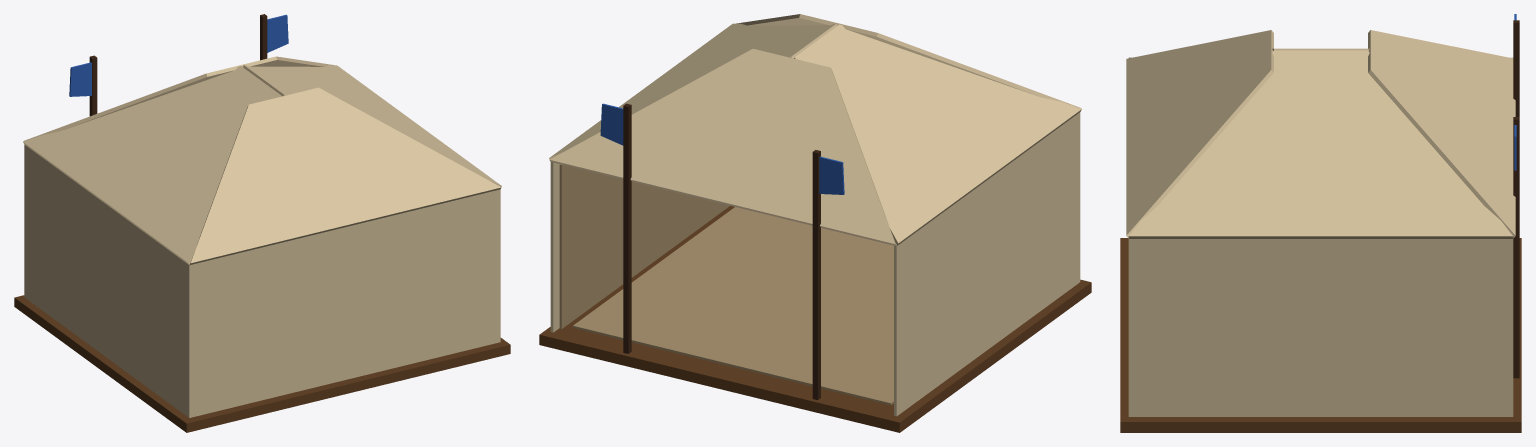
Rendered from 豪华帐篷_手游_远.glb.
3 views of the same model, side by side, from view 1: azimuth 30°, elevation 25°; view 2: azimuth 150°, elevation 25°; view 3: azimuth 270°, elevation 25° (orthographic). The views are drawn at different scales.
Visible parts, largest first — view 1: TN3-主体, TN3-team; view 2: TN3-主体, TN3-team; view 3: TN3-主体.
Part boxes in pixels (<box>): TN3-主体: <box>14,14,510,432</box>; TN3-team: <box>69,14,288,96</box>; TN3-主体: <box>539,14,1091,432</box>; TN3-team: <box>600,103,844,194</box>; TN3-主体: <box>1120,20,1521,432</box>.
Bounding box in the file's own units: 5.1 × 3.76 × 4.7.
Materials: 2 (1 with a texture image).
